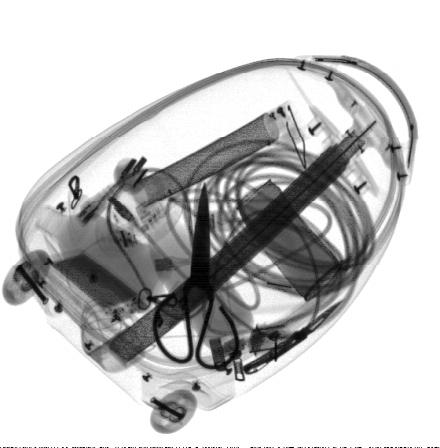Knife: (243, 295, 345, 378)
Powerbank: (44, 246, 152, 326)
Scissors: (150, 181, 240, 372)
